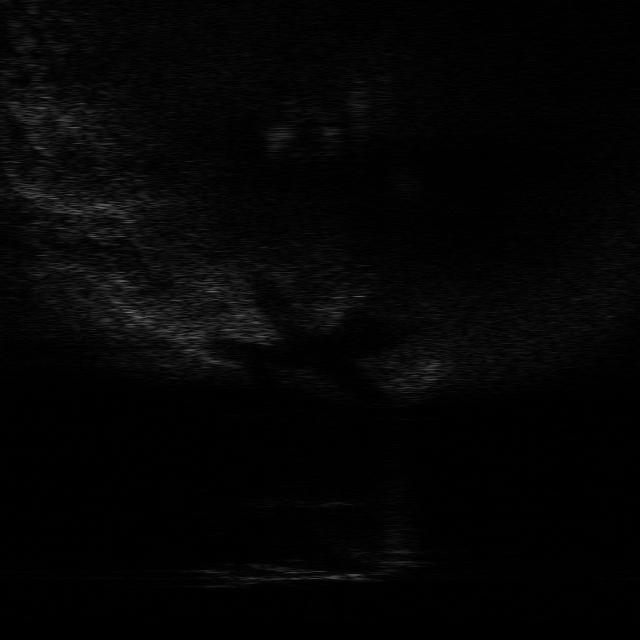plane: (188, 532, 422, 592)
